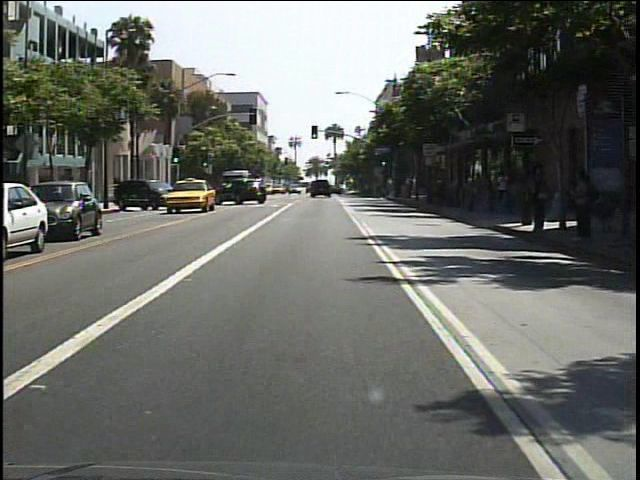person: (564, 166, 599, 244), (520, 160, 552, 238), (491, 167, 510, 210)
